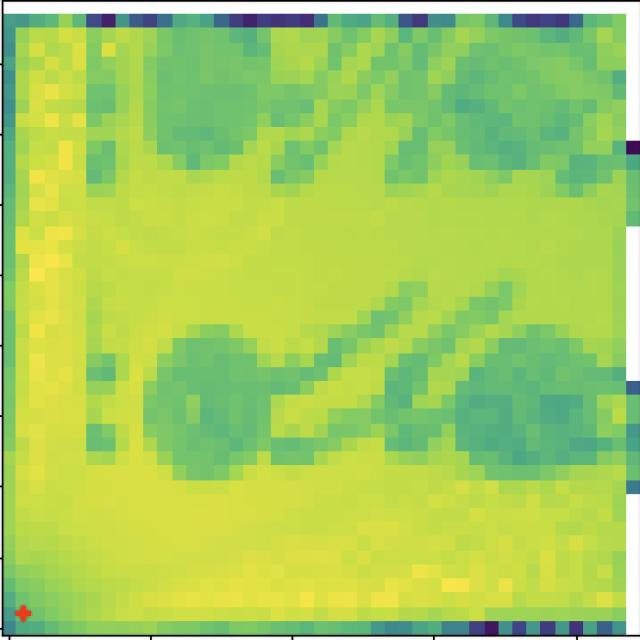Concrete: (140, 323, 273, 476)
Glass: (466, 327, 596, 475)
Metal: (136, 33, 271, 178)
Wood: (456, 32, 608, 183)
